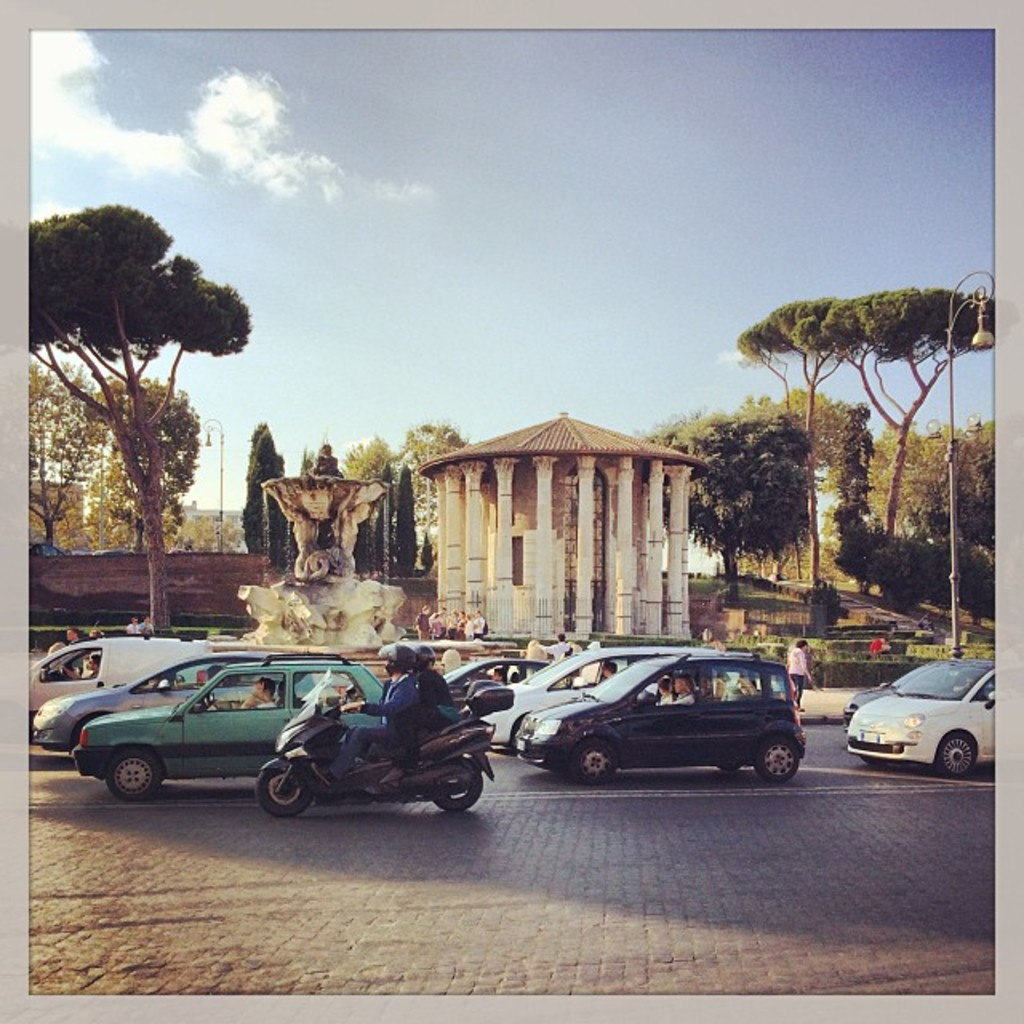Car: (81, 649, 390, 795), (524, 644, 795, 771), (33, 647, 347, 753), (481, 647, 728, 753), (846, 659, 995, 771), (444, 649, 560, 692), (832, 659, 907, 720)
